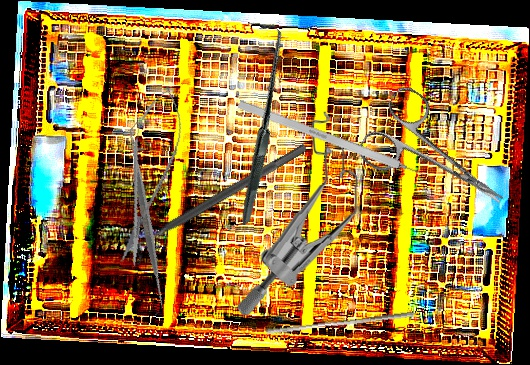Fixation Ring: (121, 133, 314, 267)
Hook Surgical: (153, 19, 361, 226), (237, 99, 439, 185)
Iris Scissors: (353, 82, 525, 239)
Micro Scissor: (105, 82, 192, 271)
Pusher: (266, 305, 415, 340)
Spatula Surgical: (49, 121, 244, 316)
Speculum: (234, 108, 366, 319)
